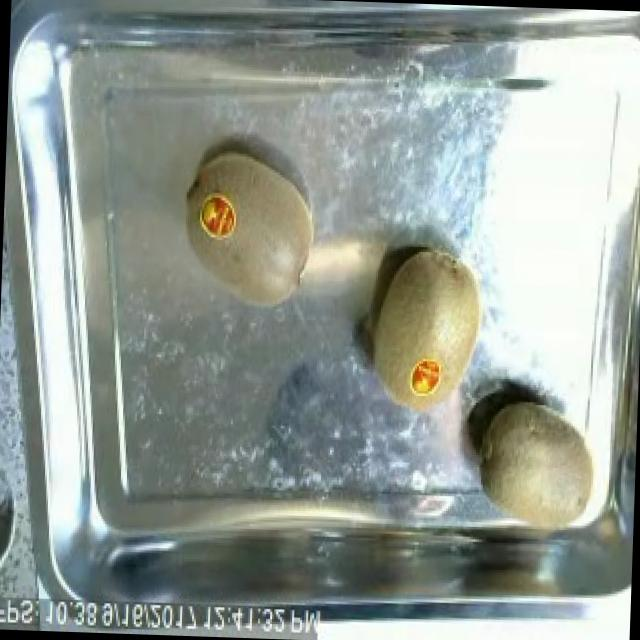Fruit: (176, 139, 328, 320), (468, 390, 622, 549), (359, 237, 493, 412)
